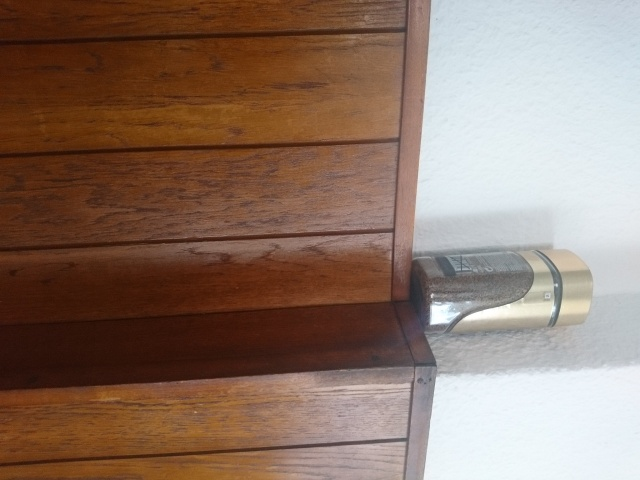Nescafe Gold 225g: (405, 246, 596, 336)
